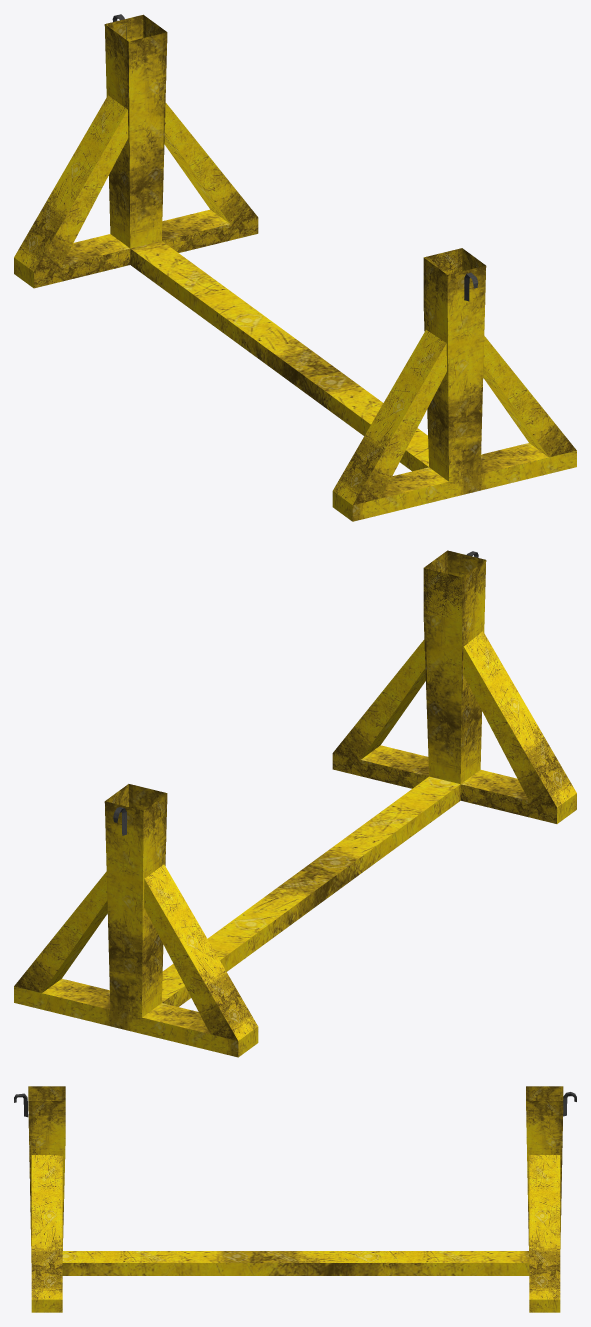
The model's file is BaseRakLow.fbx.
The picture shows the model from 3 angles, top to bottom: view 1: azimuth 30°, elevation 25°; view 2: azimuth 150°, elevation 25°; view 3: azimuth 270°, elevation 25°; orthographic projection. The views are drawn at different scales.
Visible parts, largest first — view 1: RAK_Base2; view 2: RAK_Base2; view 3: RAK_Base2.
Part boxes in pixels (x1,y1,x2,y2): RAK_Base2: [14, 14, 576, 521]; RAK_Base2: [14, 550, 576, 1057]; RAK_Base2: [14, 1086, 563, 1312].
Bounding box in the file's own units: 161 × 155 × 448.
Materials: 1 (1 with a texture image).
